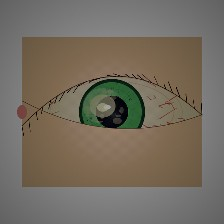corneal_ulcer: (82, 89, 124, 123)
